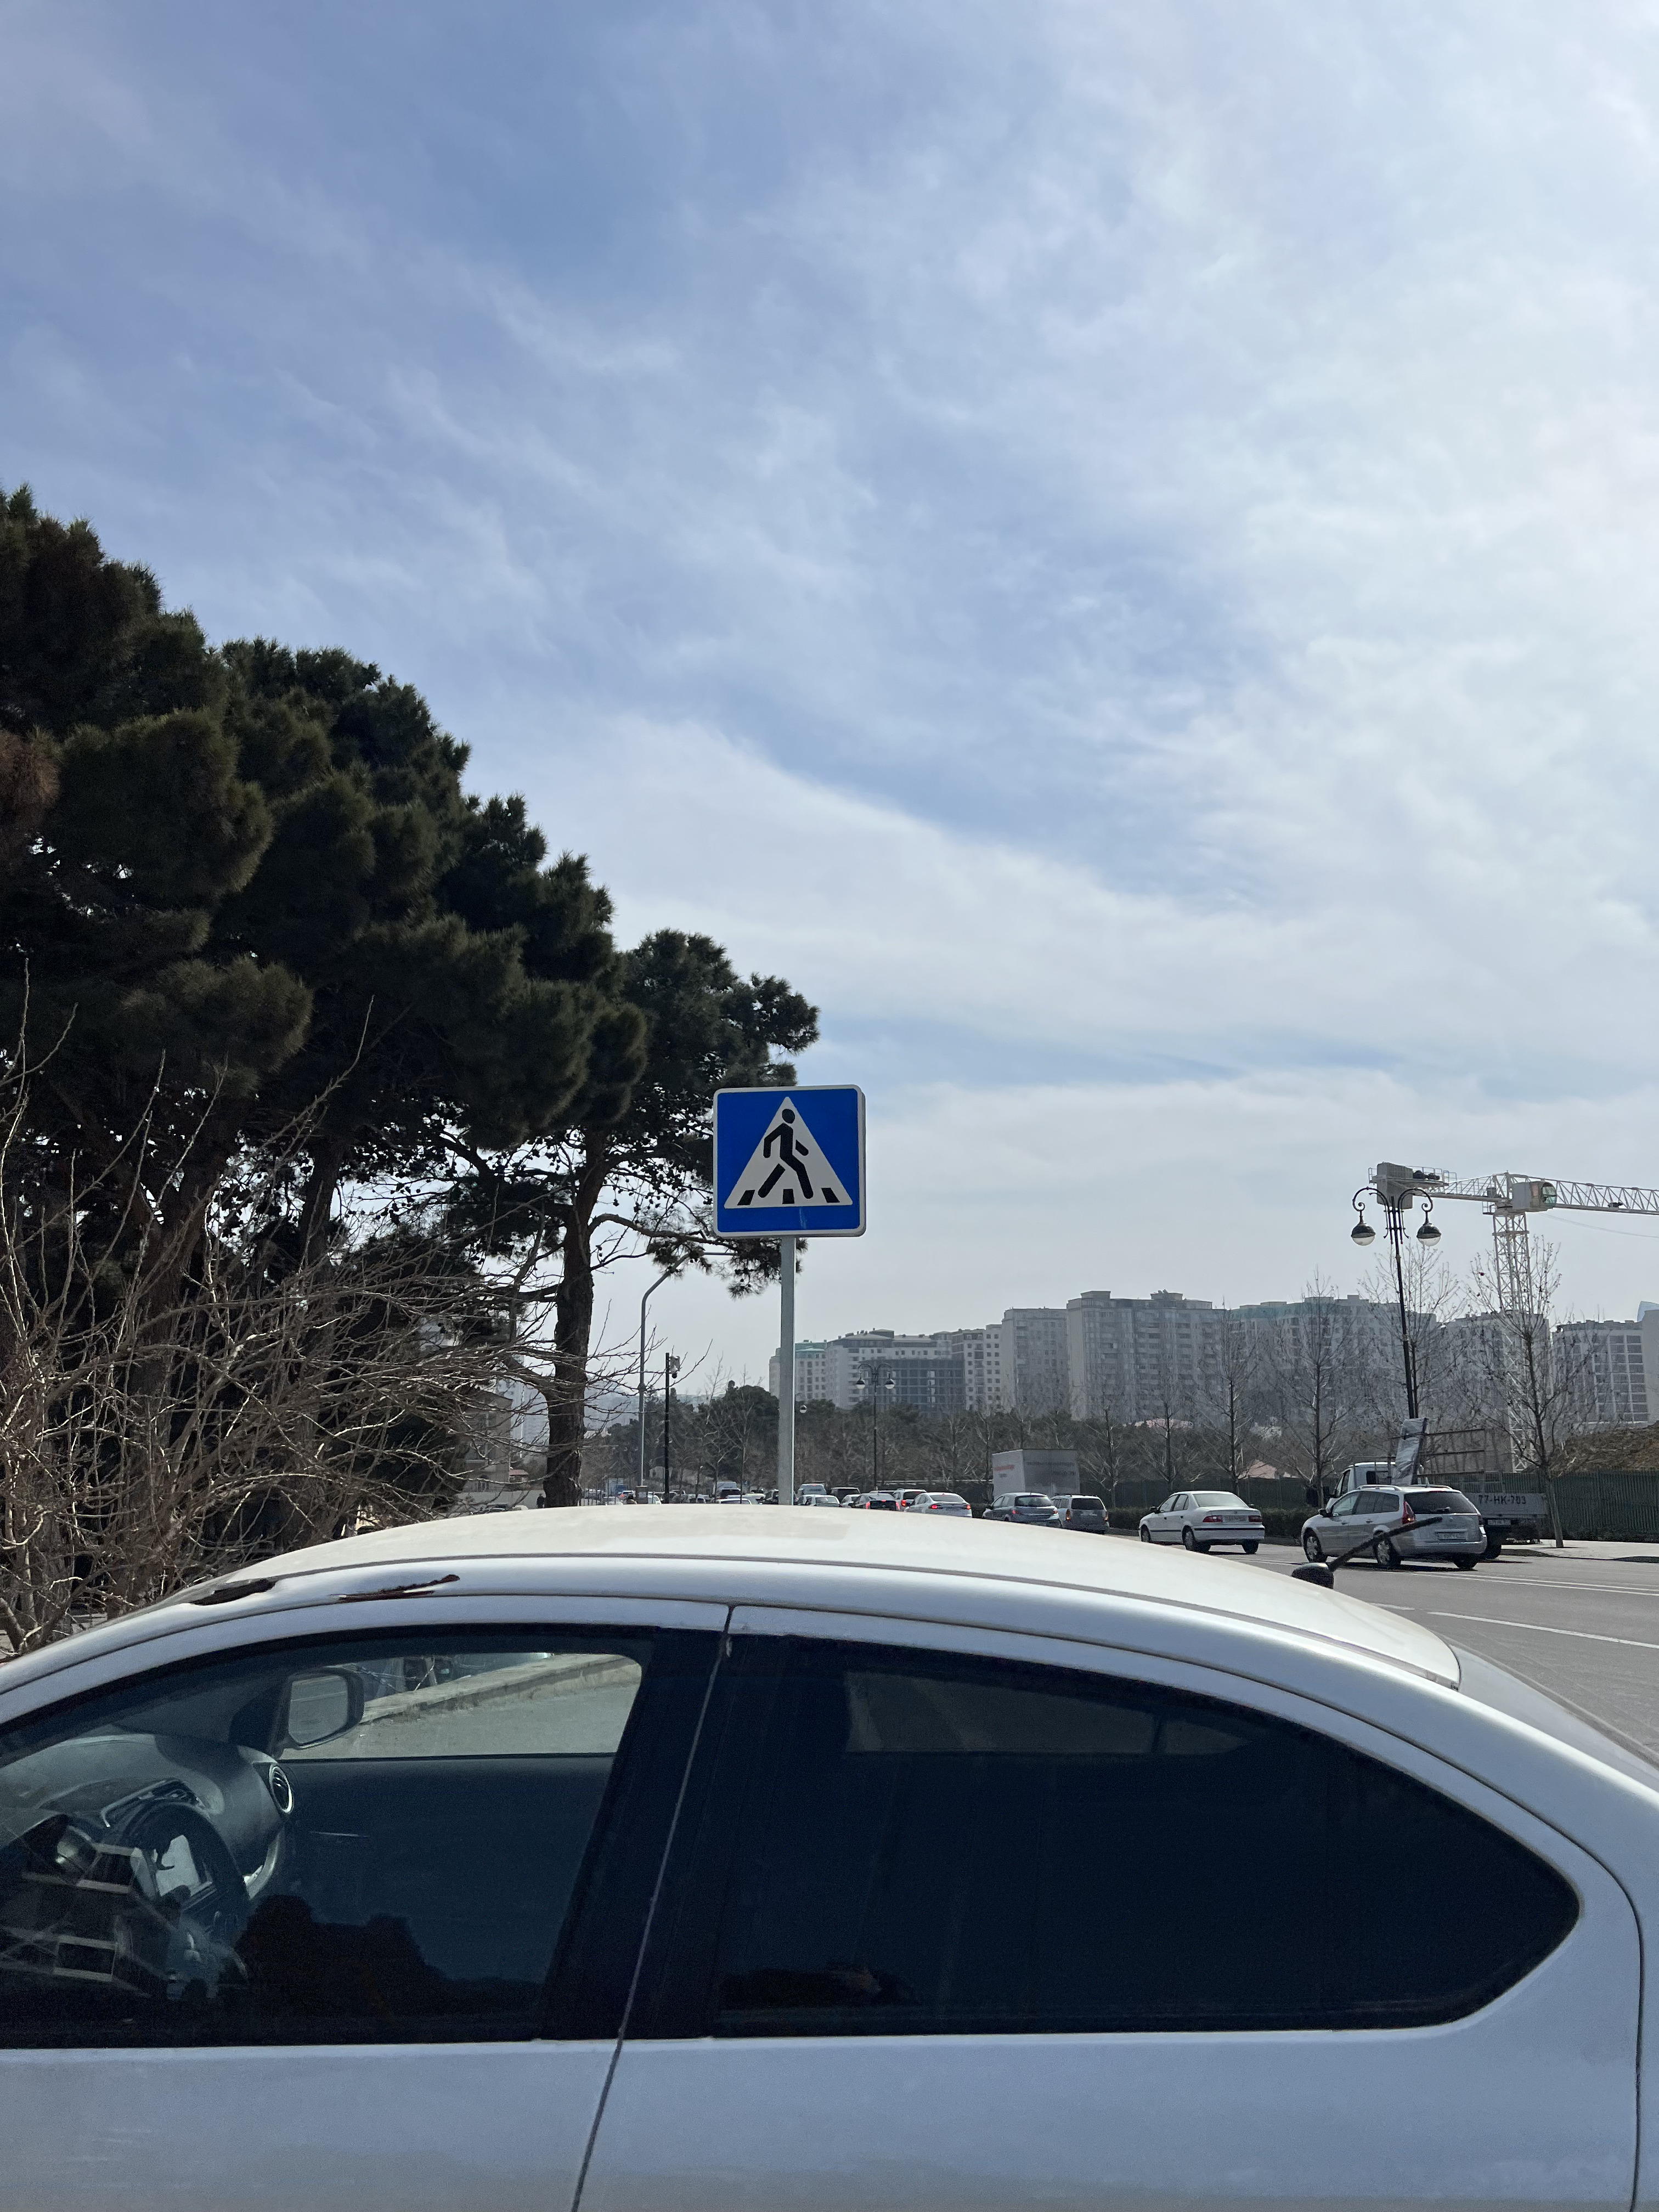Pedestrian Crossing: (713, 1083, 864, 1237)
